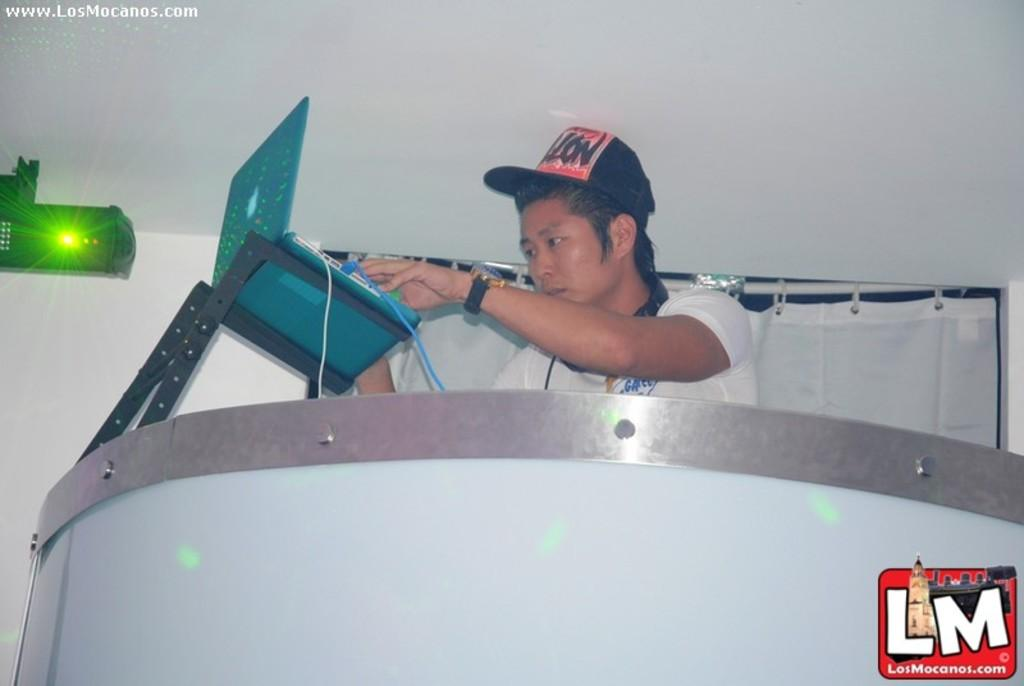Hat: (482, 124, 656, 229)
